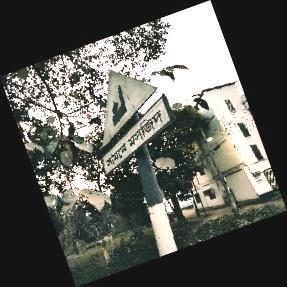Mosque in front: (98, 71, 176, 177)
